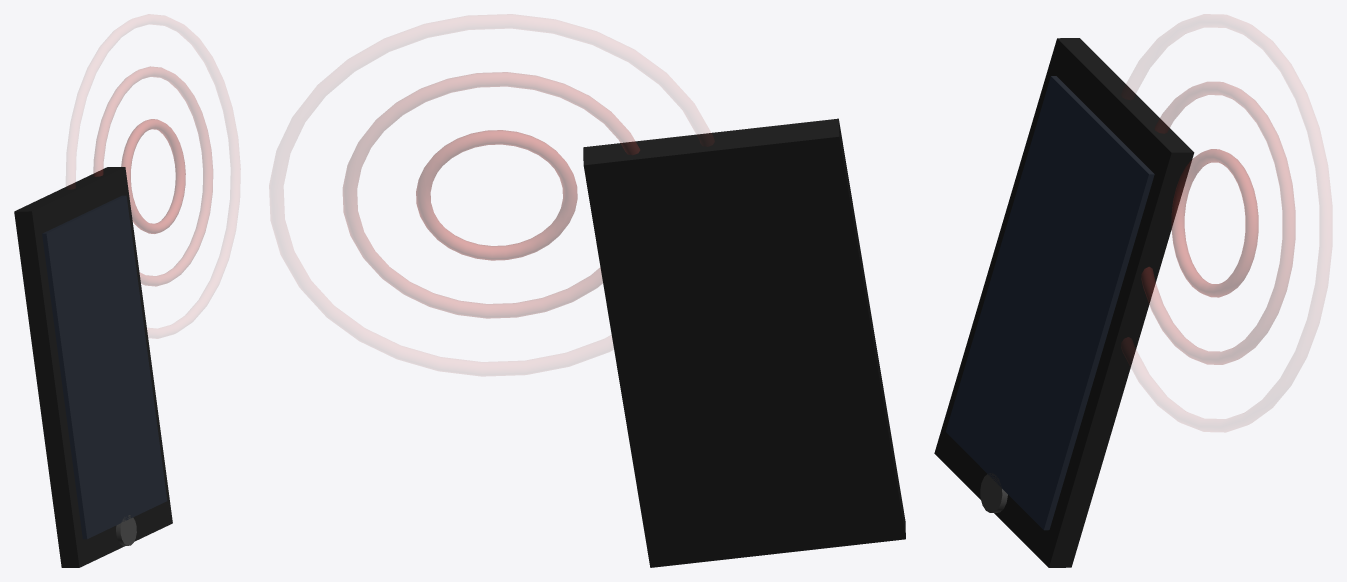
File: phone.glb
3 views of the same model, side by side, from view 1: azimuth 30°, elevation 25°; view 2: azimuth 150°, elevation 25°; view 3: azimuth 270°, elevation 25° (orthographic). The views are drawn at different scales.
Size of the model in its own units: 0.6908 by 0.9177 by 0.5877.
